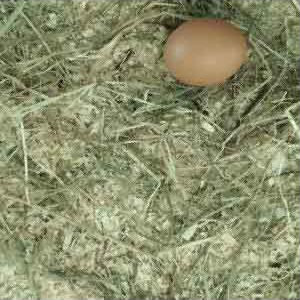egg: (164, 19, 248, 86)
